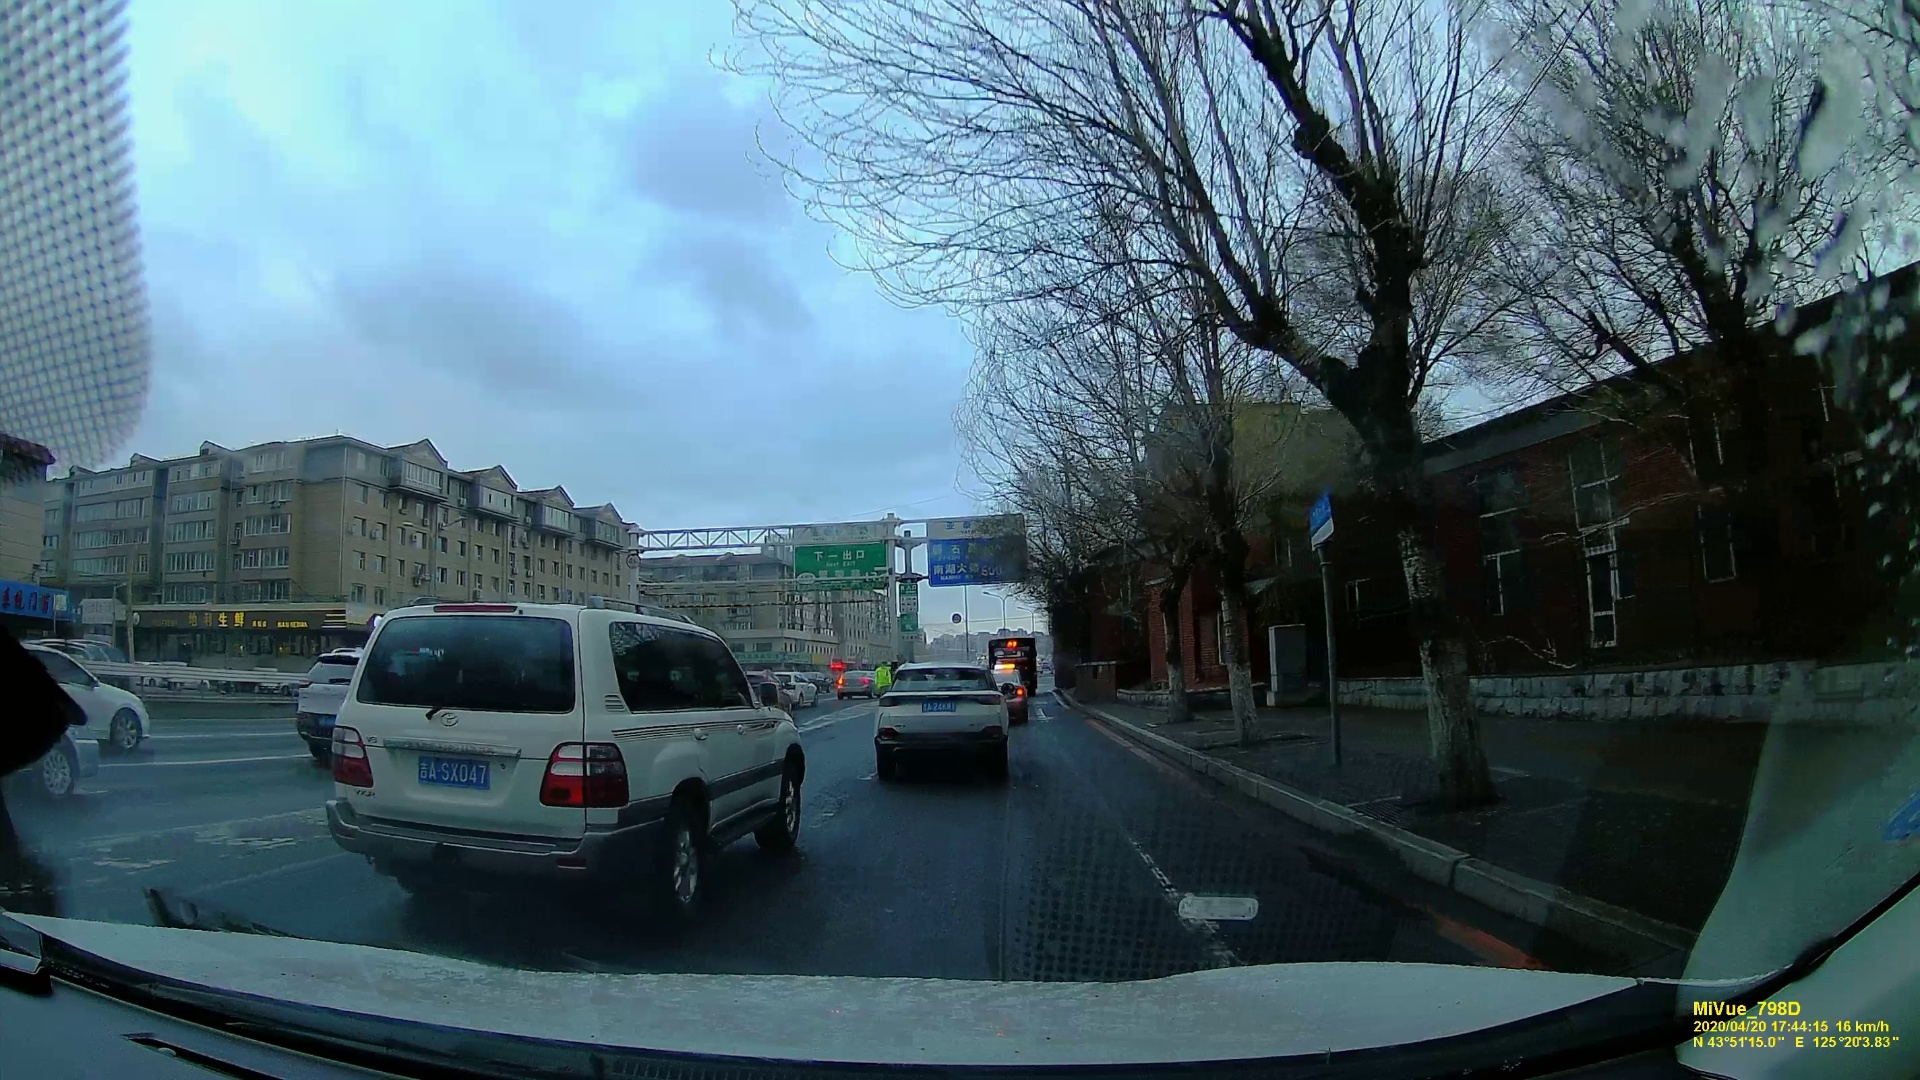bus: (985, 640, 1034, 688)
traffic_sign: (924, 516, 1029, 587), (791, 524, 887, 589), (898, 583, 920, 613), (898, 615, 918, 640)
vehicle: (310, 588, 804, 898), (866, 659, 1015, 783), (287, 647, 352, 760), (835, 669, 880, 700)
